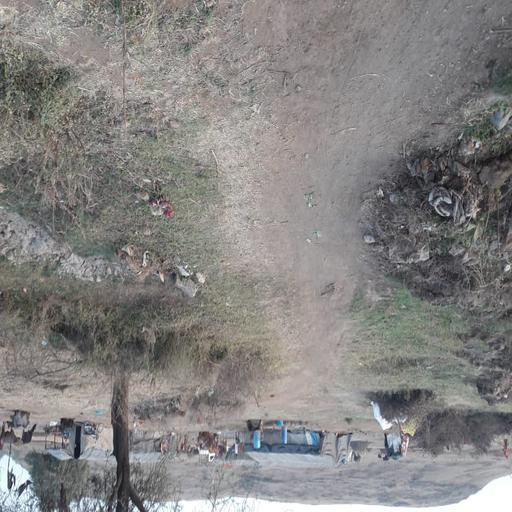vehicle_track: (252, 1, 508, 392)
